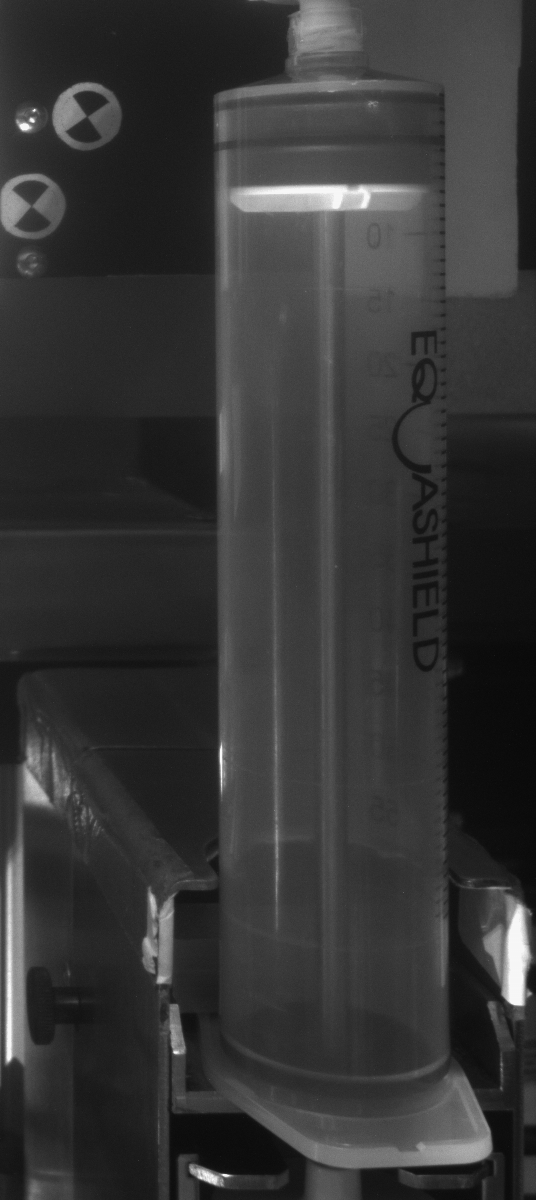piston: (212, 111, 447, 215)
